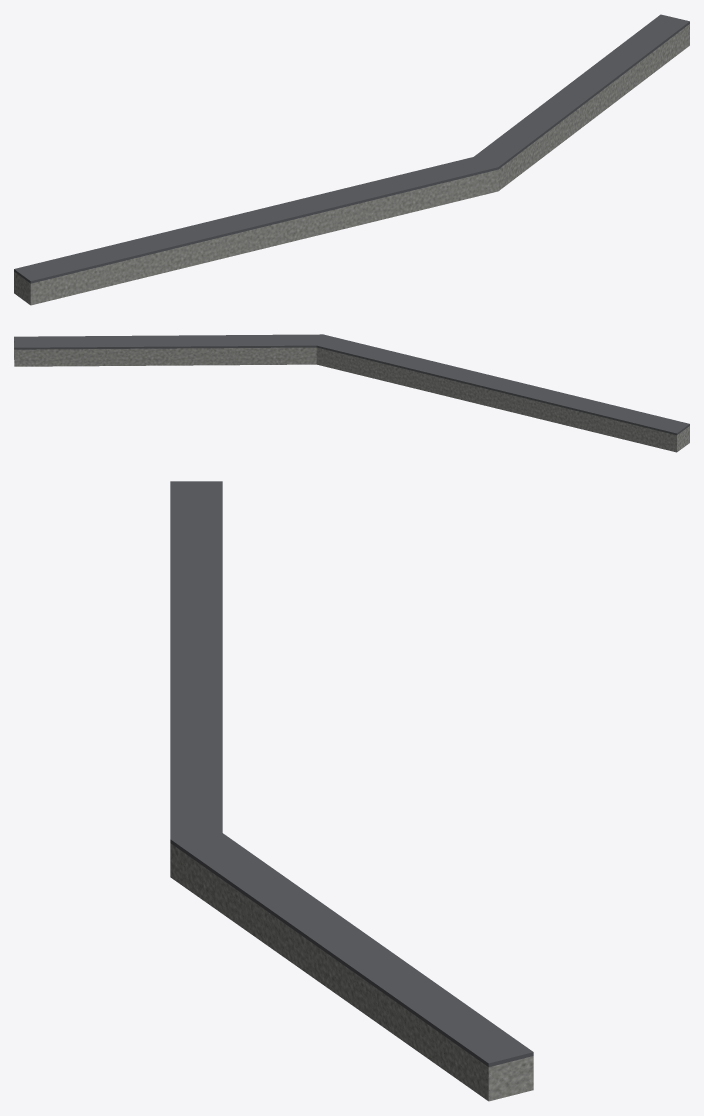
The picture shows the model from 3 angles, top to bottom: view 1: azimuth 30°, elevation 25°; view 2: azimuth 150°, elevation 25°; view 3: azimuth 270°, elevation 25°; orthographic projection. The views are drawn at different scales.
Parts seen in each view (by area): view 1: water.overflow_channel (×2); view 2: water.overflow_channel (×2); view 3: water.overflow_channel (×2).
Boxes of the visible parts, <box> form: water.overflow_channel (×2): <box>14,14,689,305</box>; water.overflow_channel (×2): <box>14,334,689,452</box>; water.overflow_channel (×2): <box>170,481,533,1101</box>.
Size of the model in its own units: 6.56 by 1.73 by 0.2.
Materials: 3 (1 with a texture image).
